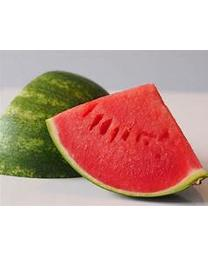watermelon: (1, 70, 206, 198)
